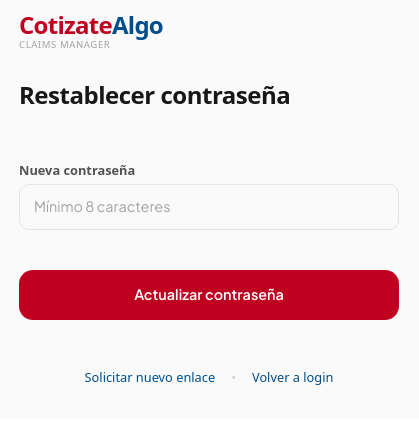
Test case: ResetPasswordForm › blocks submit with client-side validation error for invalid password
Click the button "Actualizar contraseña": (209, 295) [19, 270, 399, 320]
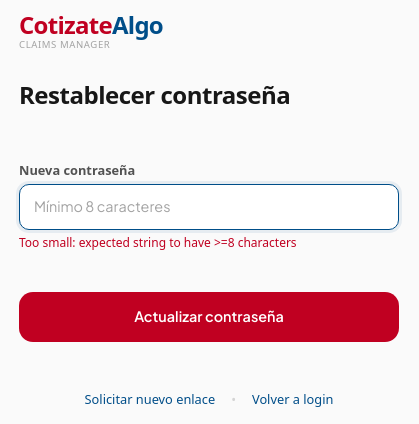
Check: the message is shown, box [19, 234, 297, 251]
